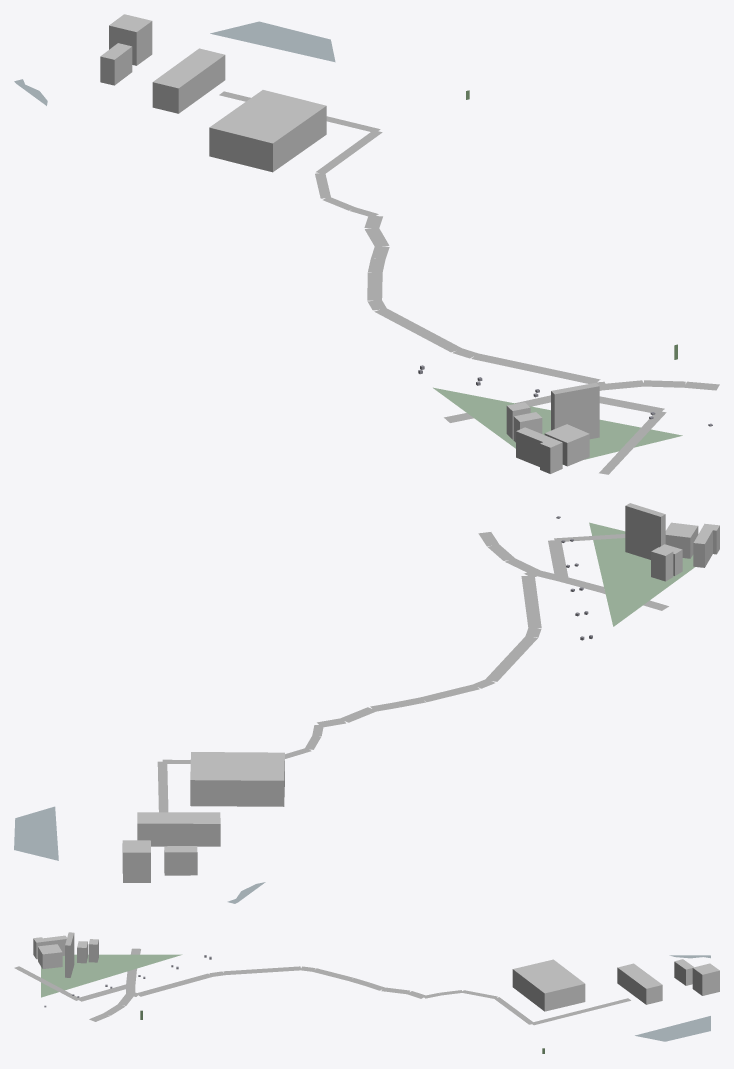
The picture shows the model from 3 angles, top to bottom: view 1: azimuth 30°, elevation 25°; view 2: azimuth 150°, elevation 25°; view 3: azimuth 270°, elevation 25°; orthographic projection. The views are drawn at different scales.
Bounding box in the file's own units: 188 × 27.47 × 527.
